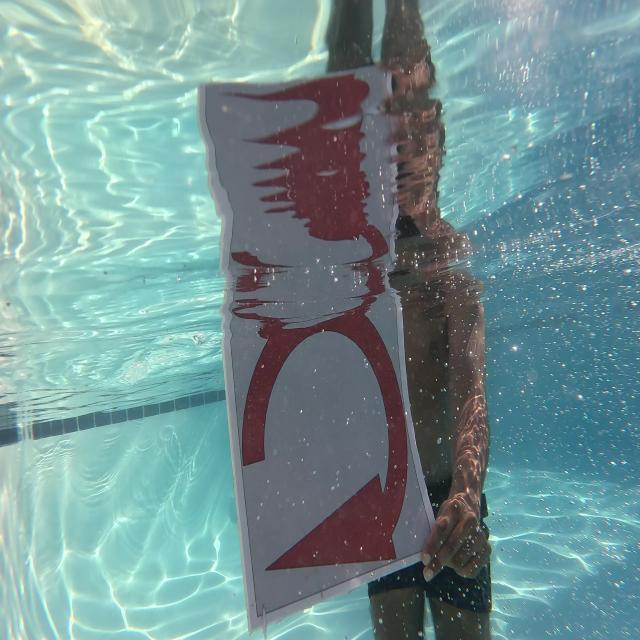red_side: (216, 302, 426, 584)
